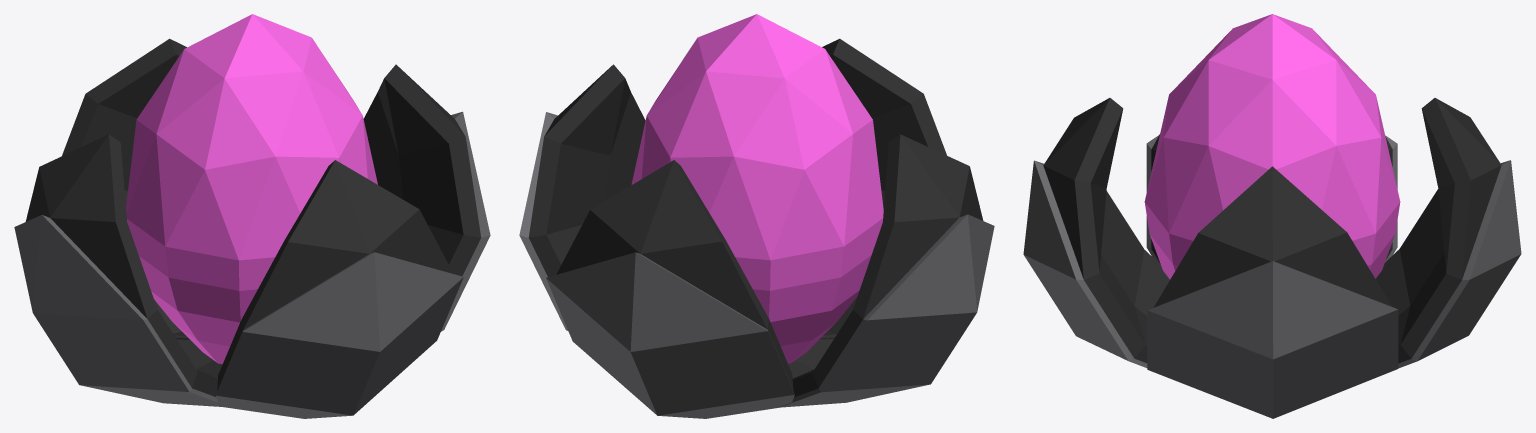
Rendered from Ornament_Stone_01.glb.
3 renders of one model, left to right at view 1: azimuth 30°, elevation 25°; view 2: azimuth 150°, elevation 25°; view 3: azimuth 270°, elevation 25°, orthographic. The views are drawn at different scales.
Visible parts, largest first — view 1: Ornament_Stone_01; view 2: Ornament_Stone_01; view 3: Ornament_Stone_01.
Boxes of the visible parts, x1,y1,x2,y2 form: Ornament_Stone_01: (14, 14, 490, 418); Ornament_Stone_01: (519, 14, 994, 418); Ornament_Stone_01: (1023, 14, 1521, 418).
Size of what is drawn, in the model's own units: 1.25 by 0.9938 by 1.25.
2 materials, 2 textured.
